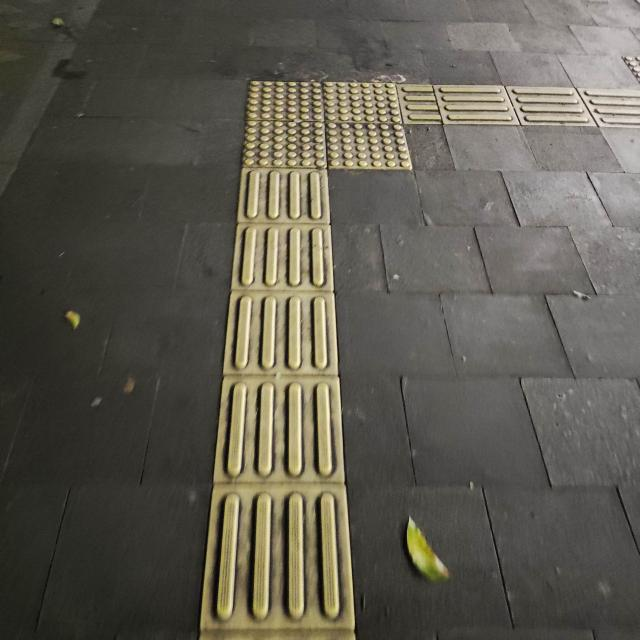kanan: (215, 60, 536, 194)
